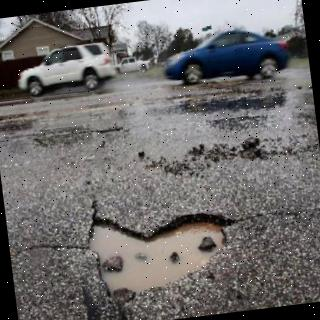pothole: (89, 213, 235, 294)
